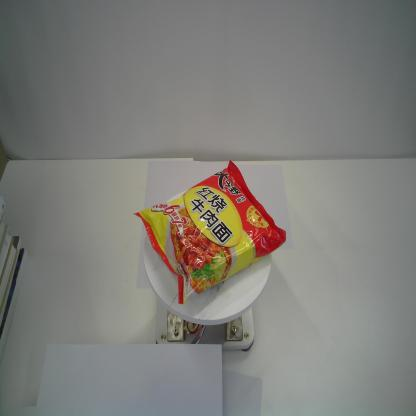Instant Noodles: (132, 159, 288, 306)
